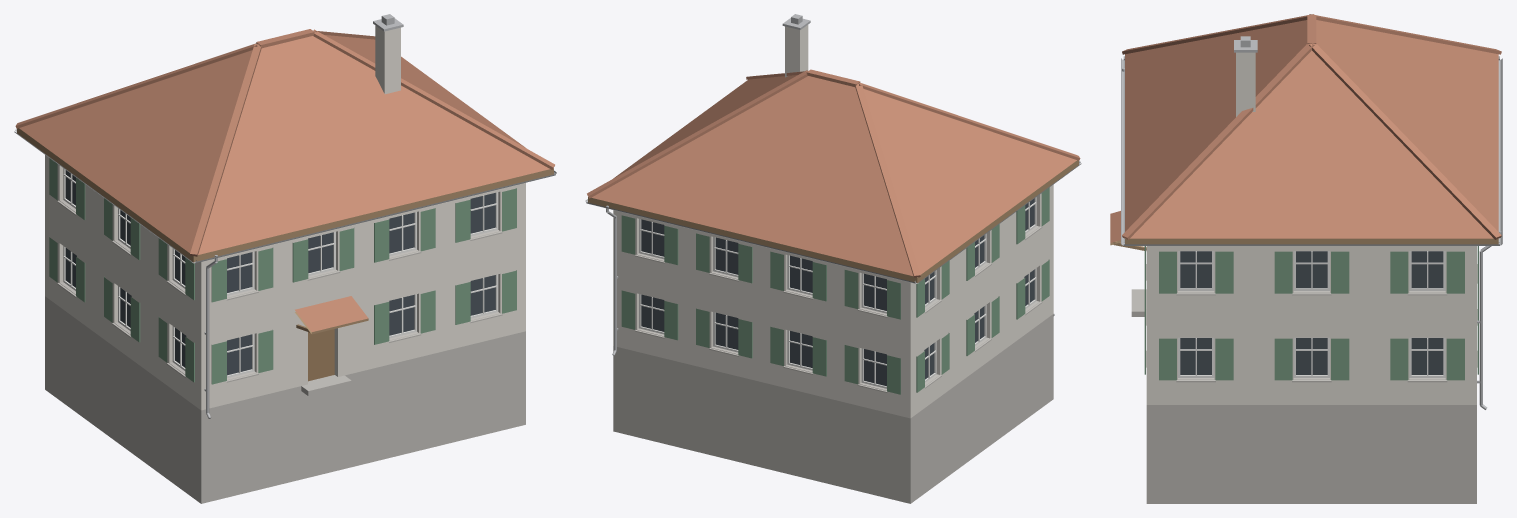
The model's file is house_hipped_2_m.glb.
The picture shows the model from 3 angles, left to right: view 1: azimuth 30°, elevation 25°; view 2: azimuth 150°, elevation 25°; view 3: azimuth 270°, elevation 25°; orthographic projection. The views are drawn at different scales.
Parts seen in each view (by area): view 1: house_hipped_2_m; view 2: house_hipped_2_m; view 3: house_hipped_2_m.
Boxes of the visible parts, <box> form: house_hipped_2_m: <box>14,14,556,503</box>; house_hipped_2_m: <box>585,14,1081,503</box>; house_hipped_2_m: <box>1110,14,1502,503</box>.
Bounding box in the file's own units: 13.5 × 13.97 × 11.88.
